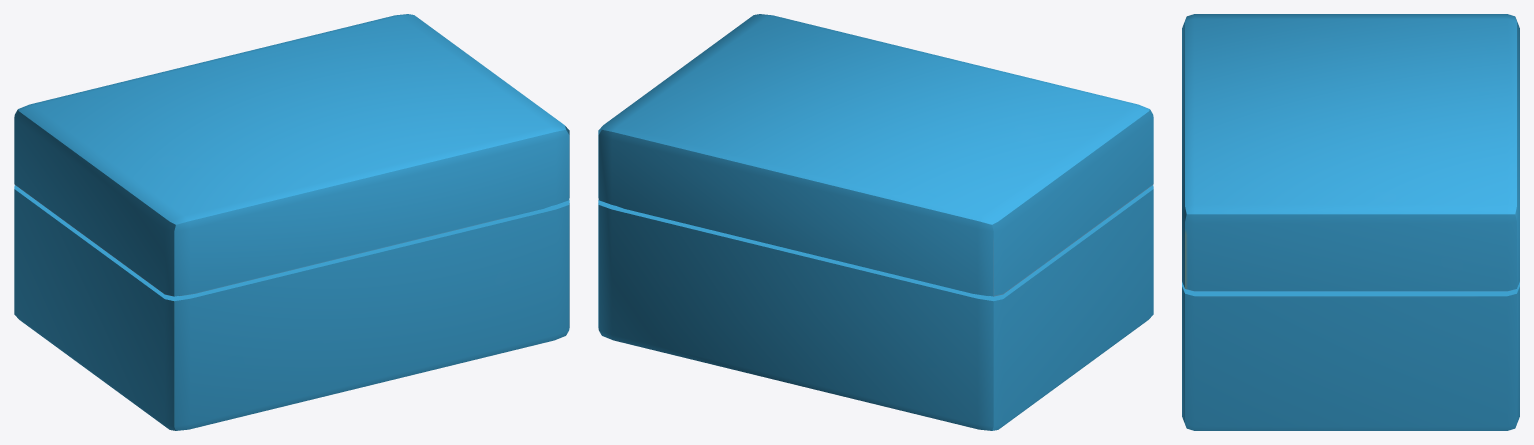
The model's file is Shelf Item (1).fbx.
The picture shows the model from 3 angles, left to right: view 1: azimuth 30°, elevation 25°; view 2: azimuth 150°, elevation 25°; view 3: azimuth 270°, elevation 25°; orthographic projection. The views are drawn at different scales.
Parts seen in each view (by area): view 1: Object119; view 2: Object119; view 3: Object119.
Boxes of the visible parts, x1,y1,x2,y2 form: Object119: (14, 14, 569, 430); Object119: (598, 14, 1153, 430); Object119: (1182, 14, 1519, 430).
Size of the model in its own units: 8.12 by 4.08 by 5.64.
